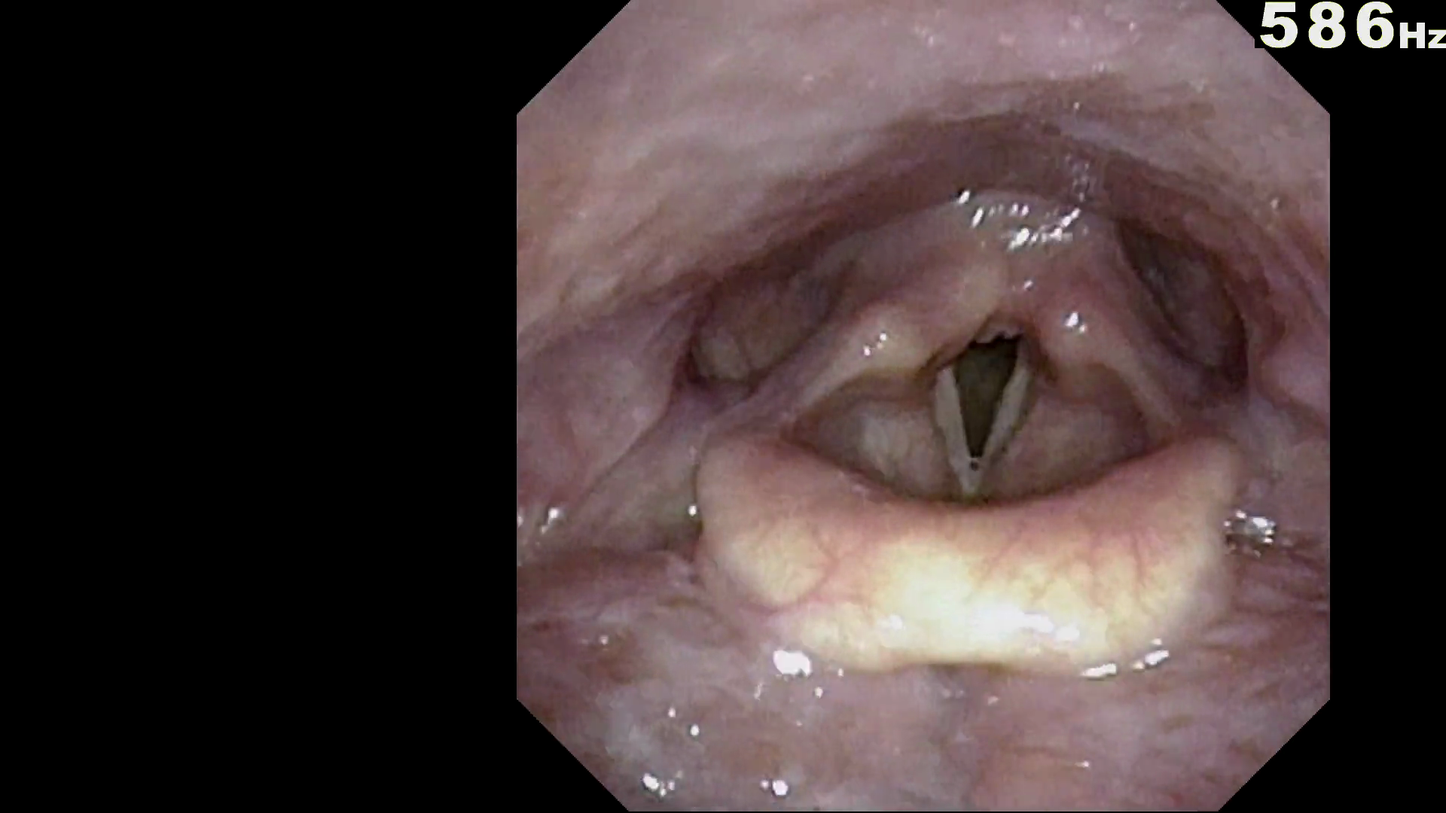epiglottis: (714, 451, 1219, 657)
trachea: (919, 324, 1069, 508)
